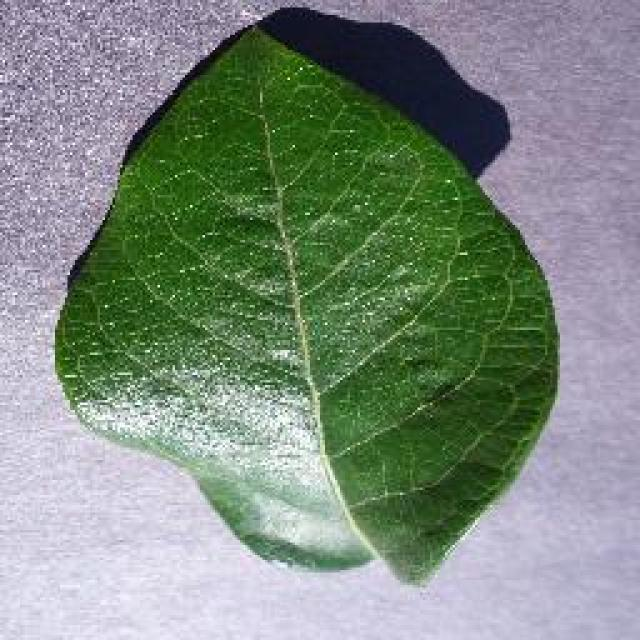Blu_healthy: (76, 101, 526, 491)
